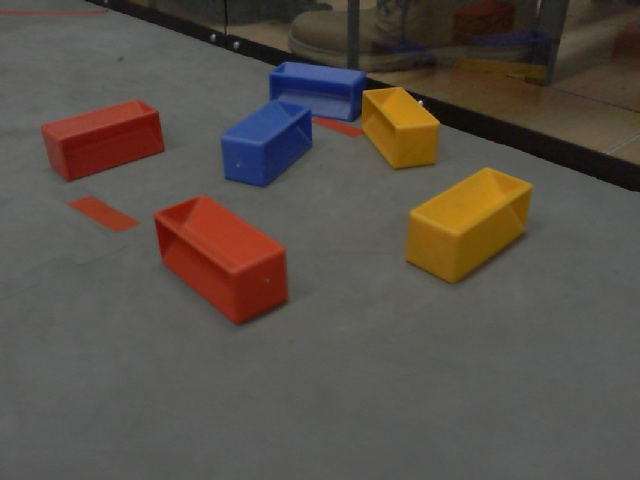BlueSample: (216, 100, 318, 191), (264, 55, 368, 128)
RedSample: (154, 191, 294, 331), (38, 97, 171, 182)
YellowSample: (403, 169, 535, 291), (355, 83, 442, 176)
